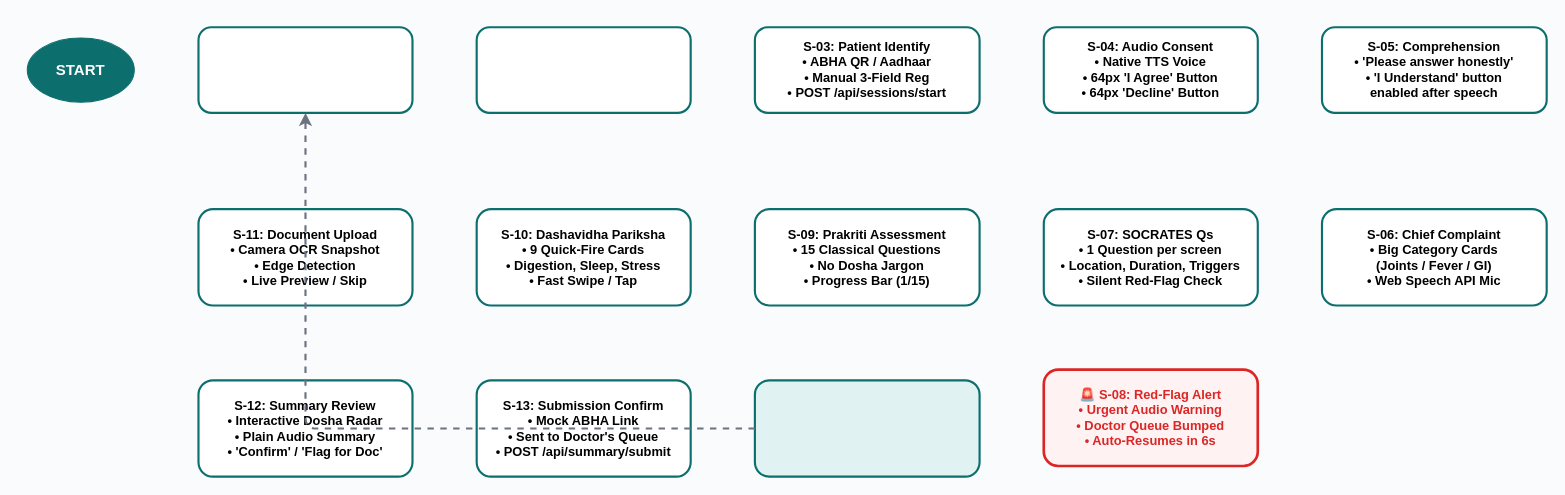
This 1565x495 diagram has some shape labels left out. Here are the shapes that lost their labels. From the top down, the centre of each, then its label:
(x=305, y=69): S-01: Welcome Screen • Ambient Greeting • Big 'Tap to Begin' CTA
(x=583, y=69): S-02: Language Select • 🪧 हिन्दी (Hindi) • 🪧 English • Auto-TTS Welcome
(x=866, y=428): S-14: Session End • 'Token # A-42' • Audio: 'धन्यवाद' • 10s Cache Wipe & Reset
